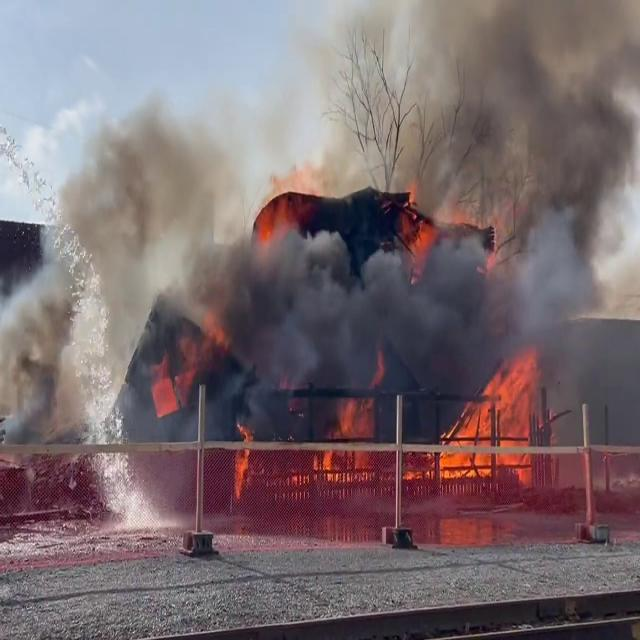Fire: (430, 350, 560, 478), (317, 402, 384, 489), (227, 415, 256, 495)
Smoke: (0, 0, 640, 425)
